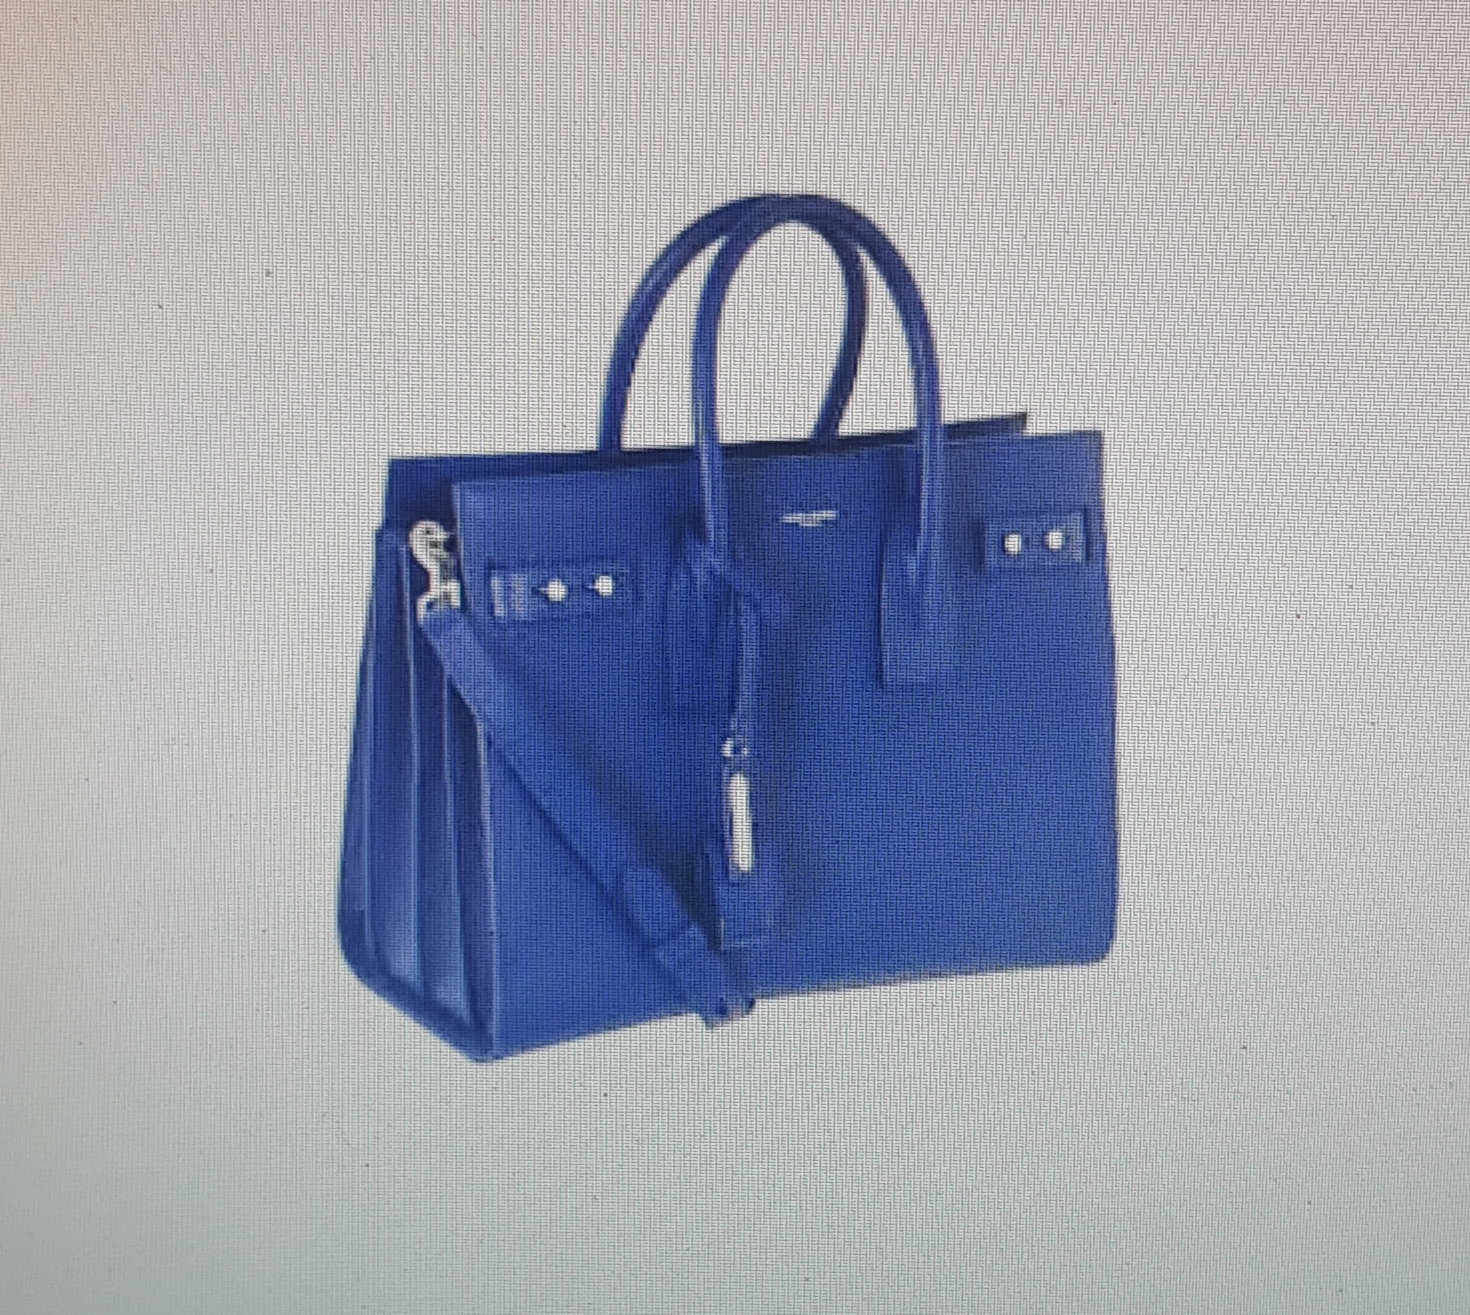Blue: (310, 192, 1142, 1074)
